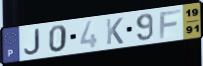0: (48, 24, 68, 54)
4: (79, 19, 100, 50)
9: (135, 13, 155, 42)
F: (159, 8, 183, 40)
J: (22, 27, 42, 56)
K: (105, 17, 125, 46)
